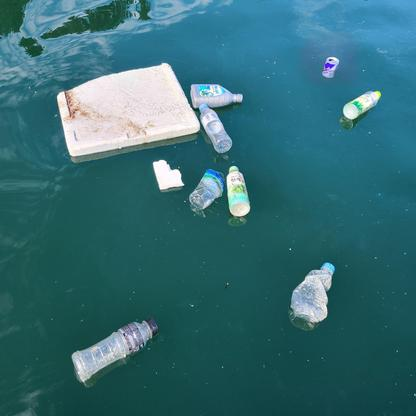can: (320, 56, 339, 78)
foam: (56, 61, 201, 160), (153, 159, 185, 190)
plastic bottle: (72, 317, 157, 384), (289, 262, 335, 323), (189, 167, 225, 211), (200, 105, 232, 154), (190, 82, 244, 107), (341, 90, 383, 118), (227, 166, 250, 217)
